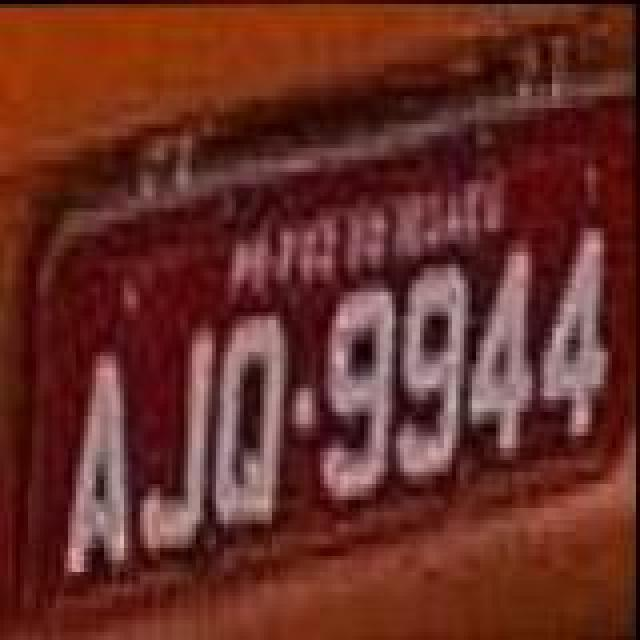4: (464, 246, 540, 462), (536, 224, 612, 440)
9: (316, 286, 404, 502), (390, 266, 470, 486)
A: (58, 344, 134, 576)
J: (136, 328, 216, 560)
Q: (216, 310, 296, 530)
